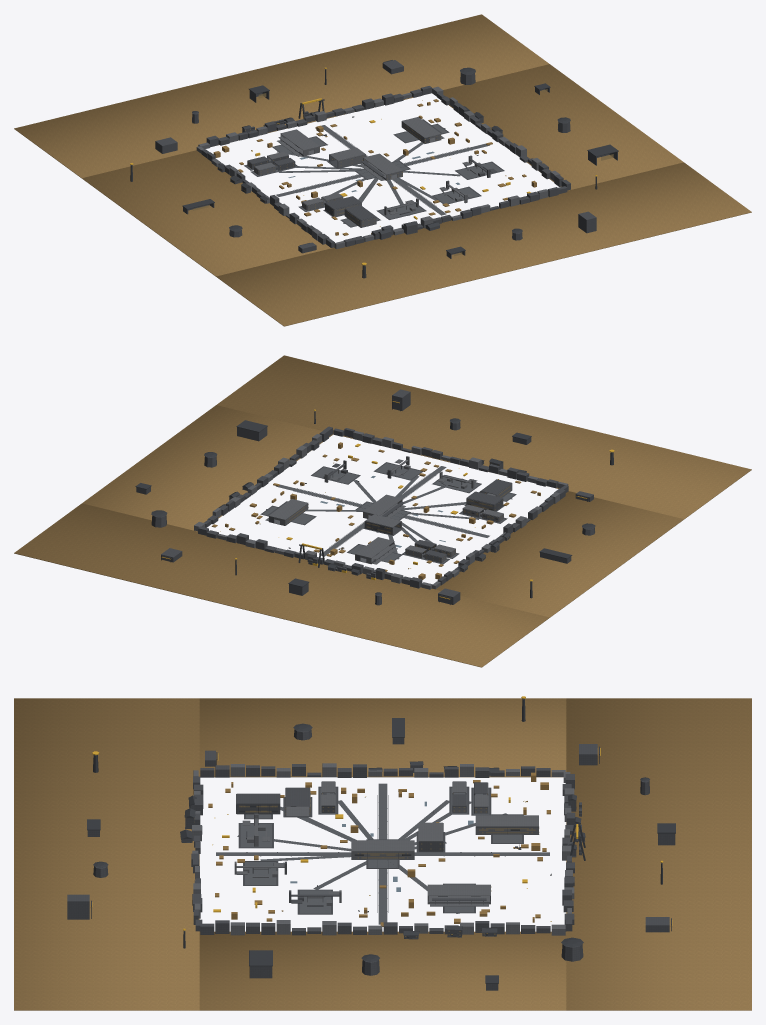
Rendered from souko-lod1.glb.
The picture shows the model from 3 angles, top to bottom: view 1: azimuth 30°, elevation 25°; view 2: azimuth 150°, elevation 25°; view 3: azimuth 270°, elevation 25°; orthographic projection. The views are drawn at different scales.
Visible parts, largest first — view 1: HB_souko_LOD1_terrain, HB_souko_LOD1_wall_alt, HB_souko_LOD1_wall, HB_souko_LOD1_road, HB_souko_LOD1_trim, HB_souko_LOD1_obstacle; view 2: HB_souko_LOD1_terrain, HB_souko_LOD1_wall_alt, HB_souko_LOD1_wall, HB_souko_LOD1_road, HB_souko_LOD1_trim, HB_souko_LOD1_obstacle; view 3: HB_souko_LOD1_terrain, HB_souko_LOD1_wall_alt, HB_souko_LOD1_wall, HB_souko_LOD1_road, HB_souko_LOD1_trim, HB_souko_LOD1_obstacle, HB_souko_LOD1_glass.
Part boxes in pixels (left/top/right/bottom): HB_souko_LOD1_terrain: left=14, top=14, right=751, bottom=326; HB_souko_LOD1_wall_alt: left=155, top=60, right=617, bottom=258; HB_souko_LOD1_wall: left=196, top=86, right=560, bottom=249; HB_souko_LOD1_road: left=244, top=123, right=504, bottom=227; HB_souko_LOD1_trim: left=130, top=60, right=618, bottom=278; HB_souko_LOD1_obstacle: left=213, top=99, right=536, bottom=235; HB_souko_LOD1_terrain: left=14, top=355, right=751, bottom=667; HB_souko_LOD1_wall_alt: left=136, top=389, right=594, bottom=605; HB_souko_LOD1_wall: left=194, top=431, right=568, bottom=589; HB_souko_LOD1_road: left=260, top=462, right=516, bottom=564; HB_souko_LOD1_trim: left=135, top=399, right=613, bottom=604; HB_souko_LOD1_obstacle: left=162, top=401, right=587, bottom=598; HB_souko_LOD1_terrain: left=14, top=698, right=751, bottom=1010; HB_souko_LOD1_wall_alt: left=67, top=729, right=675, bottom=990; HB_souko_LOD1_wall: left=192, top=763, right=574, bottom=935; HB_souko_LOD1_road: left=216, top=783, right=549, bottom=924; HB_souko_LOD1_trim: left=87, top=699, right=675, bottom=983; HB_souko_LOD1_obstacle: left=90, top=748, right=670, bottom=926; HB_souko_LOD1_glass: left=194, top=790, right=539, bottom=937.
Size of the model in its own units: 676 by 25.24 by 676.
Materials: 9 (7 with a texture image).
